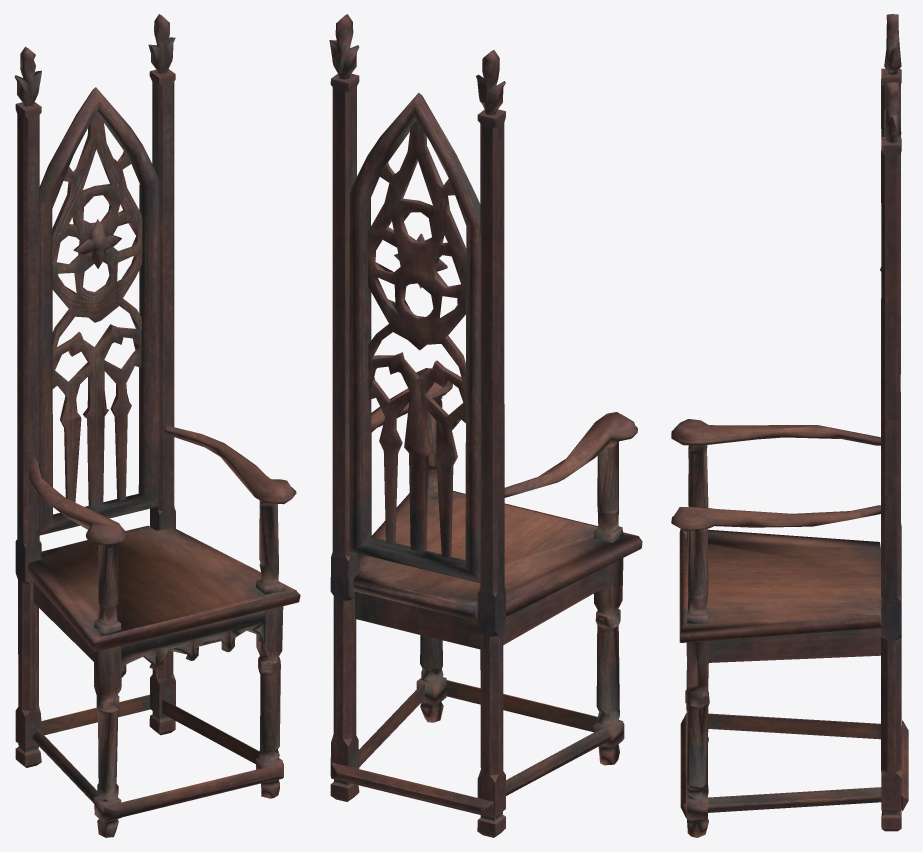
The model's file is woodenchair_01.glb.
3 views of the same model, side by side, from view 1: azimuth 30°, elevation 25°; view 2: azimuth 150°, elevation 25°; view 3: azimuth 270°, elevation 25° (orthographic). The views are drawn at different scales.
Visible parts, largest first — view 1: WoodenChair_01; view 2: WoodenChair_01; view 3: WoodenChair_01.
Boxes of the visible parts, left/top/right/bottom form: WoodenChair_01: left=14, top=14, right=300, bottom=837; WoodenChair_01: left=329, top=14, right=642, bottom=837; WoodenChair_01: left=671, top=14, right=908, bottom=837.
Bounding box in the file's own units: 0.6872 × 2.27 × 0.6555.
1 material, 1 textured.
